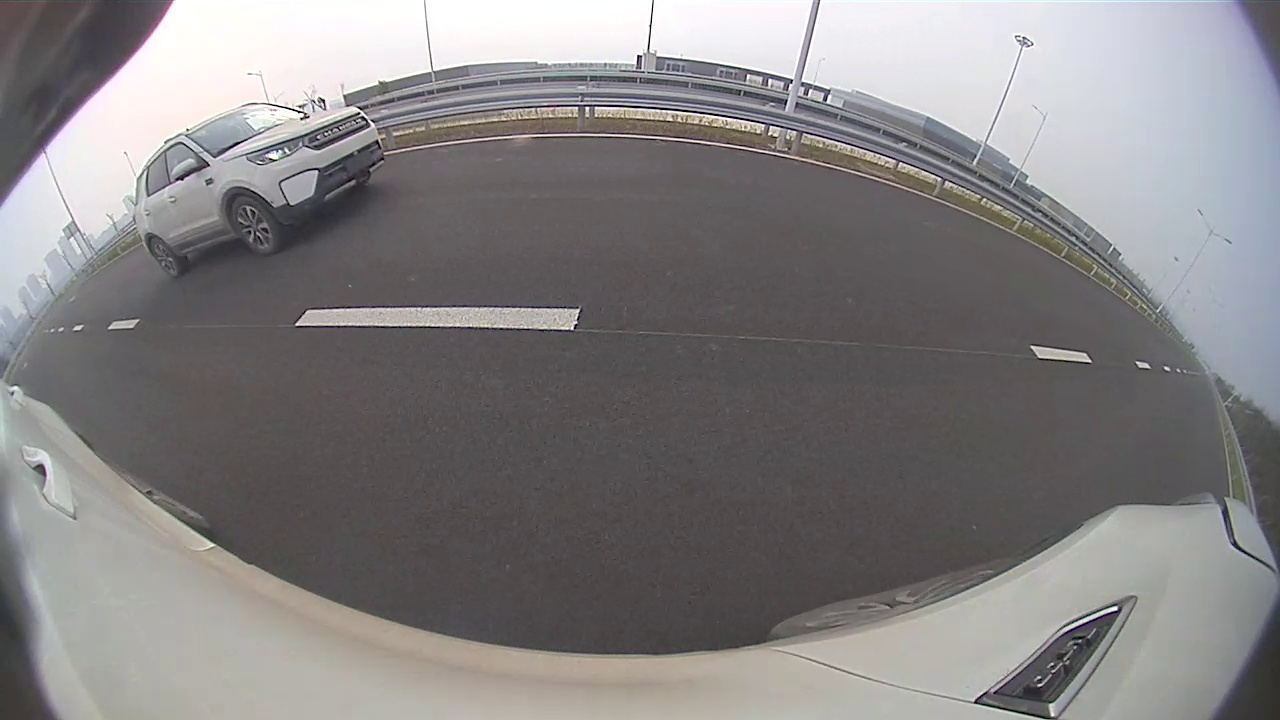car: (133, 102, 386, 280)
front: (229, 194, 279, 258)
rear: (148, 236, 186, 279)
